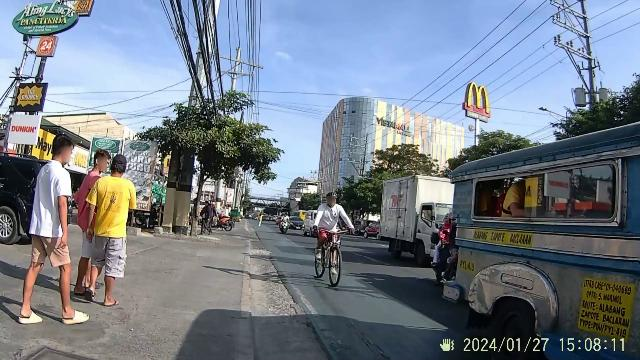utility_post: (544, 1, 616, 115), (162, 146, 194, 234)
